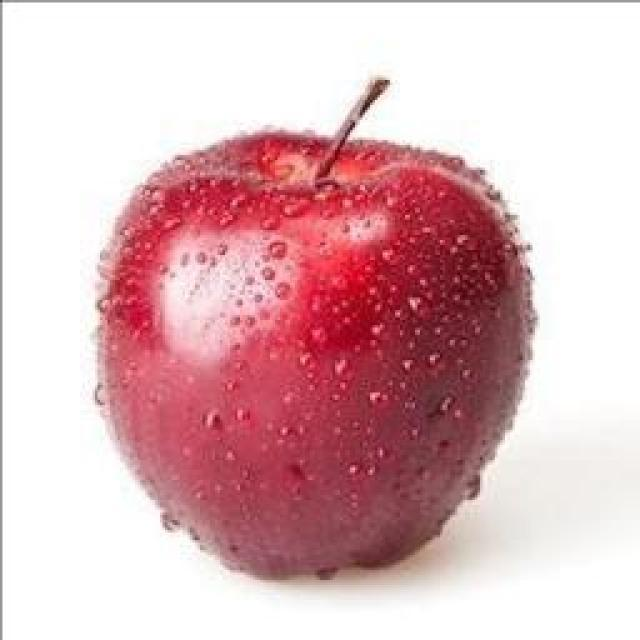Apple: (101, 131, 532, 576)
